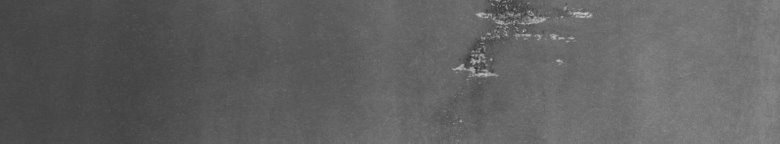hc: (450, 4, 593, 128)
